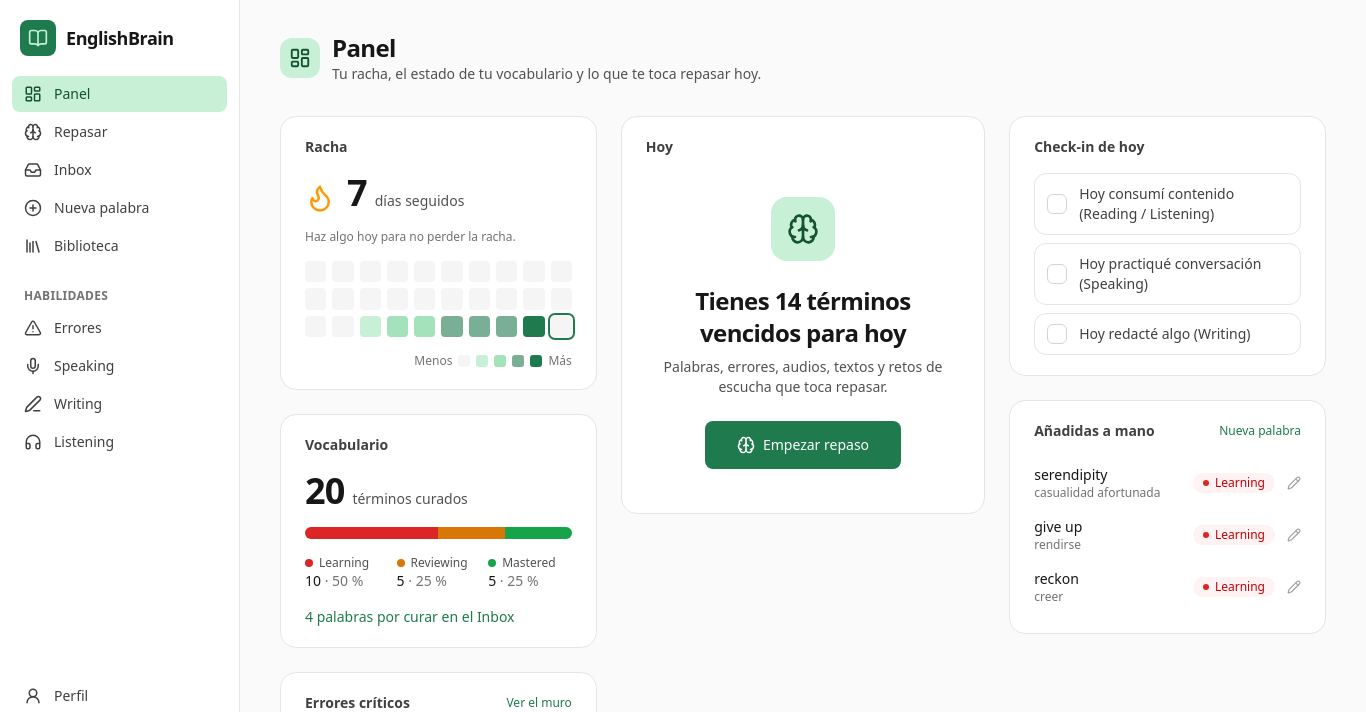
it: 17.4 · Barra lateral › un clic abre la edición rápida sin salir del Panel y al guardar la lista se actualiza
The width and height of the screenshot is (1366, 712).
Click the button with aria-label "Editar «give up»" at (1058, 526), box [1026,509,1309,561]
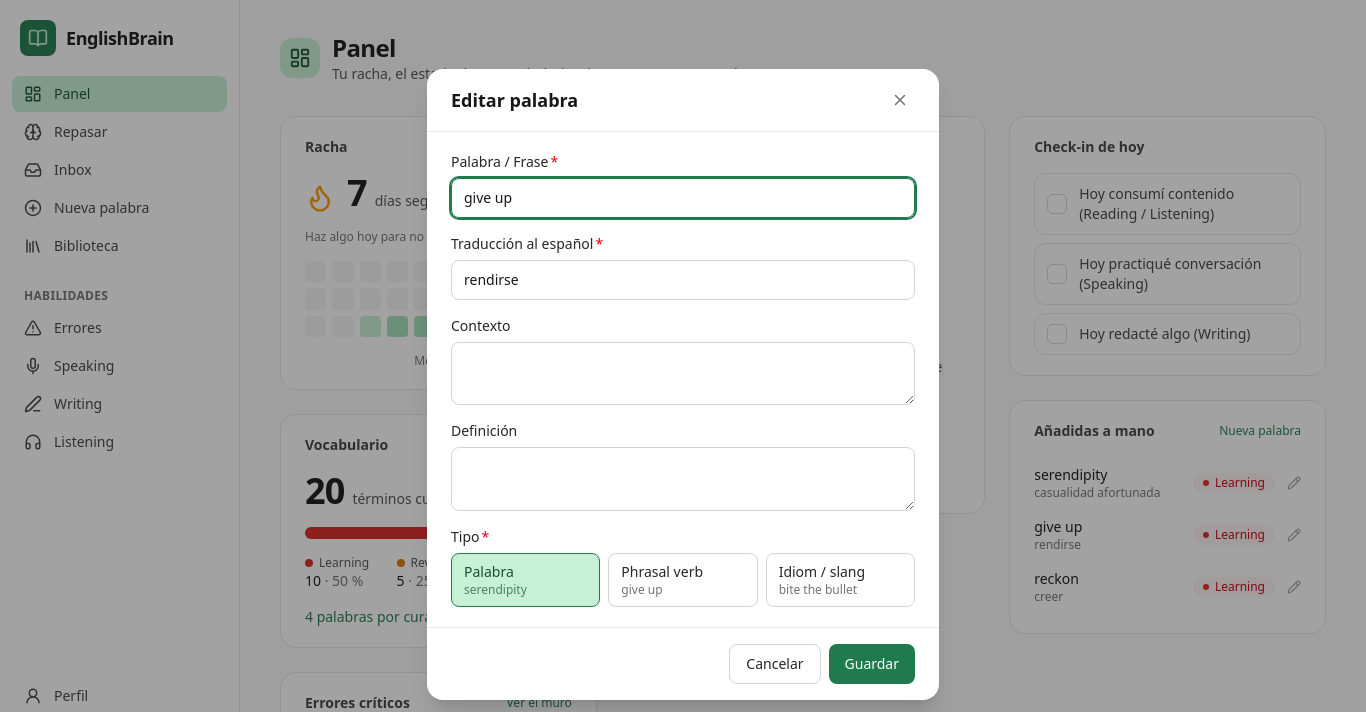
Replace the text in the field labelled "Traducción al español*" with "darse por vencido" at (683, 280), box [451,260,915,300]
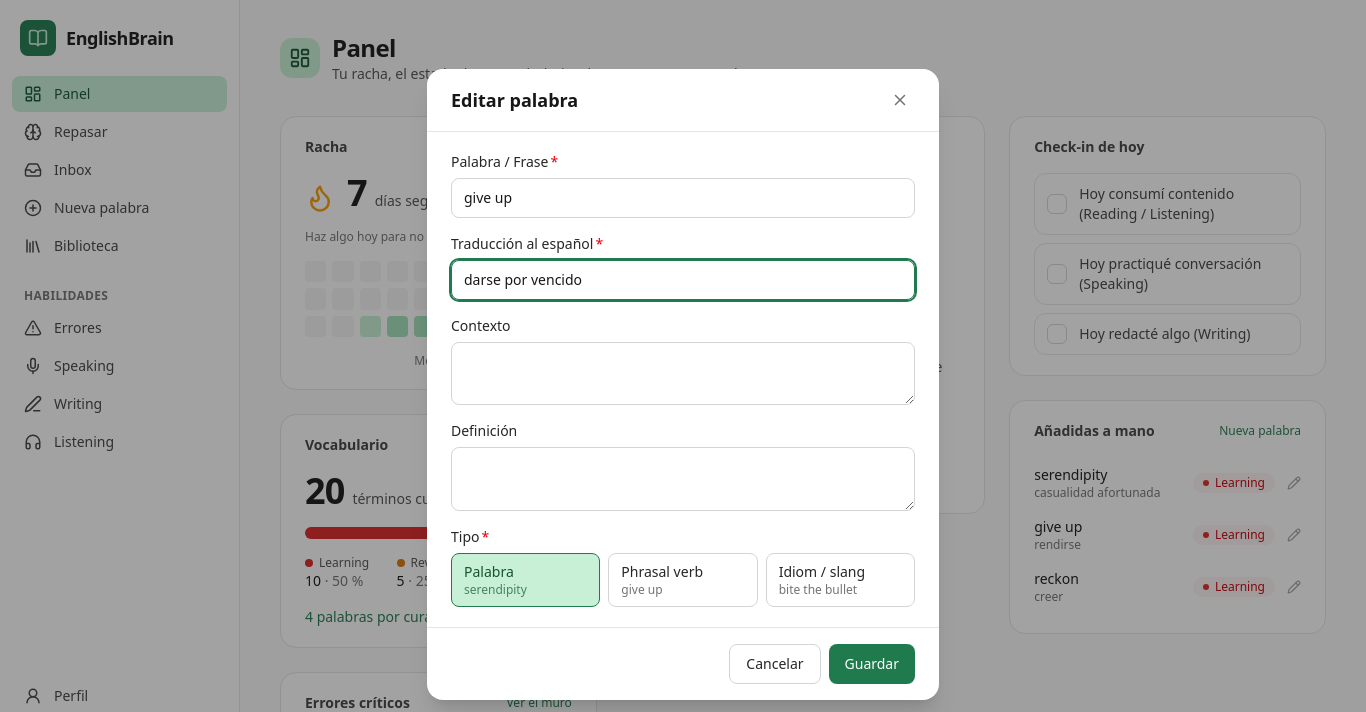
Click the button "Guardar" at (872, 664), box [828,644,915,684]
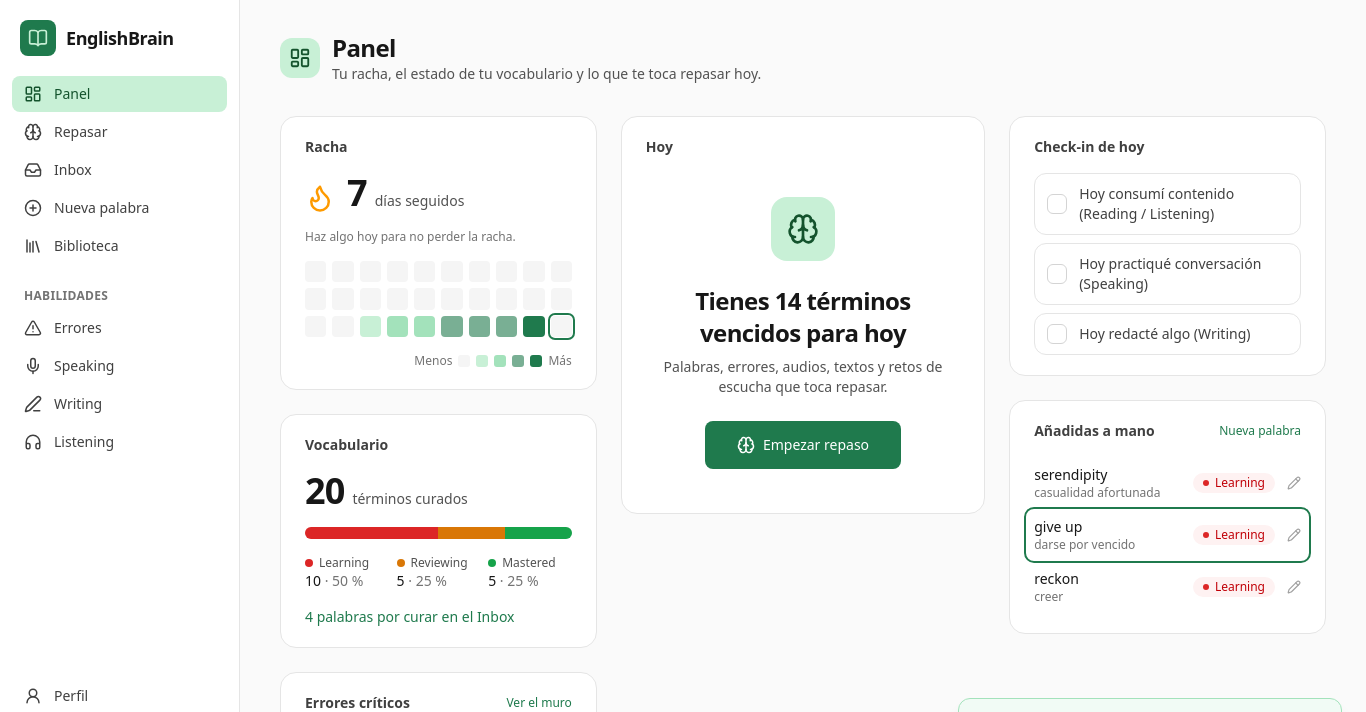
Expected: the heading "Panel" is shown, [332,31,396,64]
Expected: the dialog is gone
Expected: the text "darse por vencido" is shown, [1034,536,1135,553]
